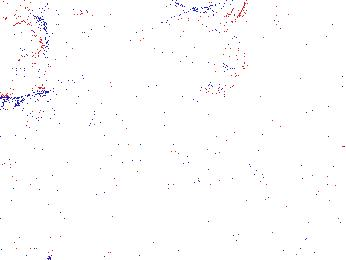moon jellyfish: (80, 16, 165, 92), (154, 13, 245, 78), (186, 26, 245, 94), (1, 14, 49, 93)
